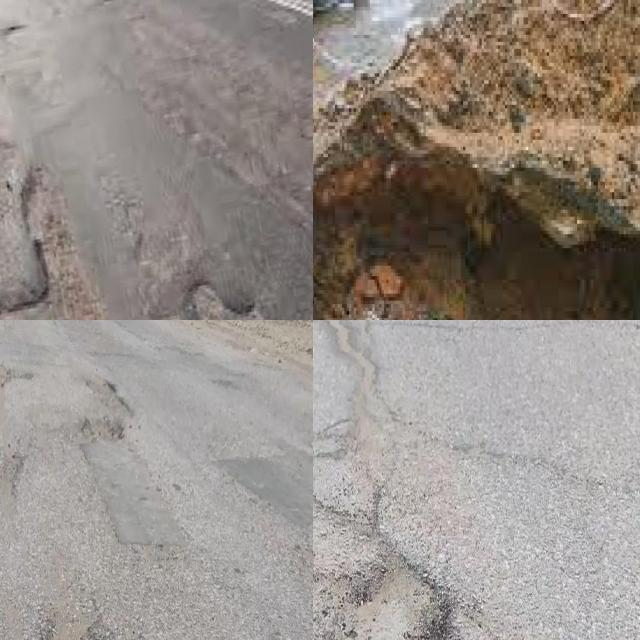Pothole: (313, 164, 640, 320), (0, 168, 104, 320), (323, 546, 455, 640), (184, 285, 263, 320), (0, 438, 21, 511), (82, 417, 125, 442), (85, 370, 119, 395), (0, 360, 17, 387)
